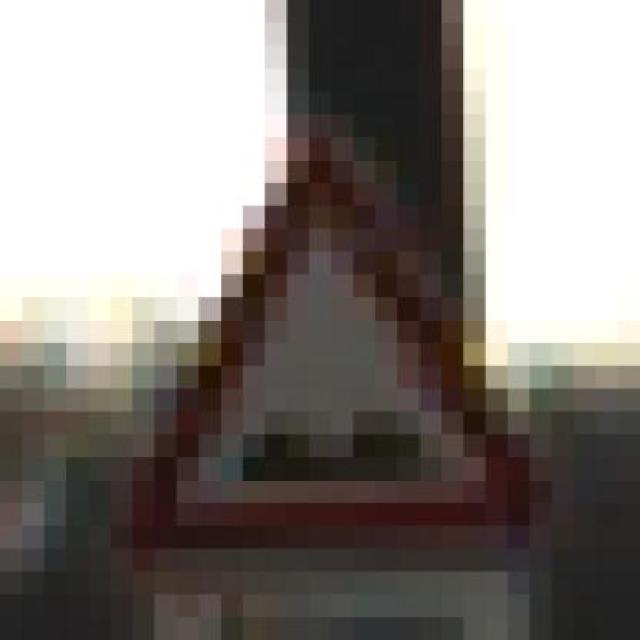Uneven Road: (88, 114, 574, 572)
